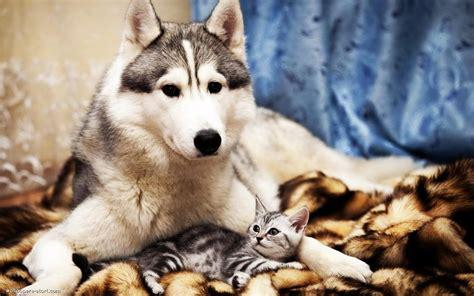cat: (142, 196, 308, 294)
dog: (23, 1, 370, 296)
